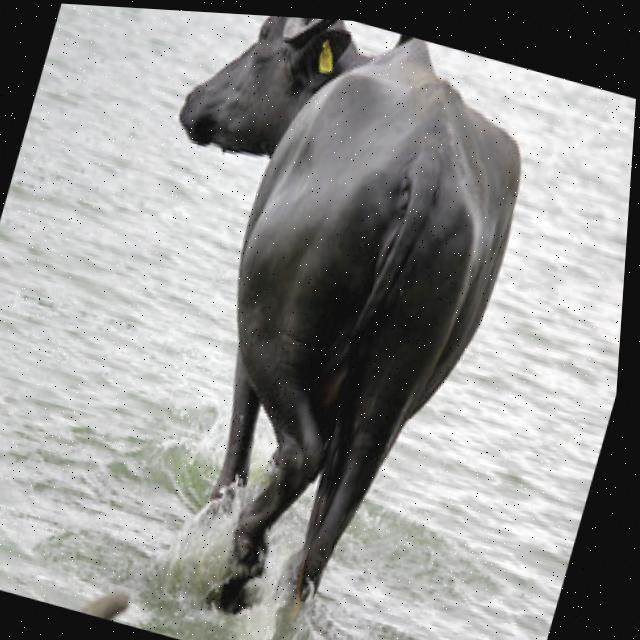Buffalo: (44, 5, 558, 640)
